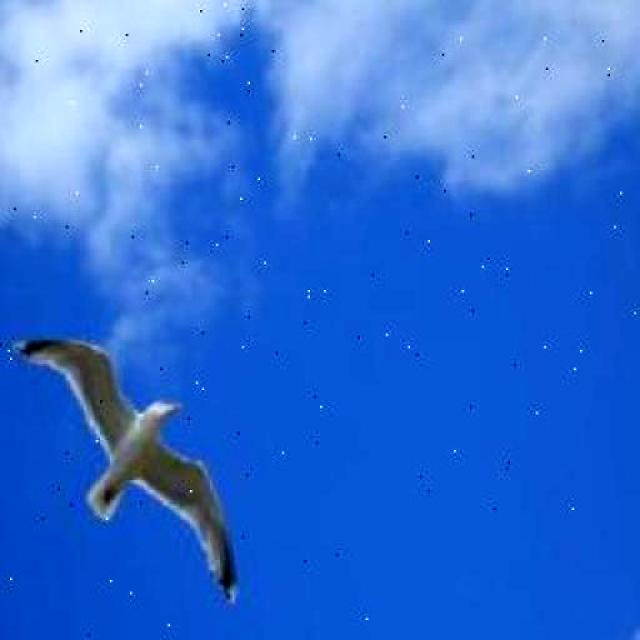airplane: (15, 318, 239, 629)
